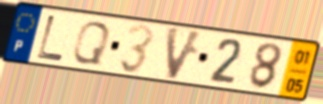2: (207, 37, 244, 87)
3: (117, 23, 159, 75)
8: (248, 42, 284, 92)
L: (34, 13, 66, 63)
Q: (69, 20, 113, 67)
V: (165, 24, 206, 82)
